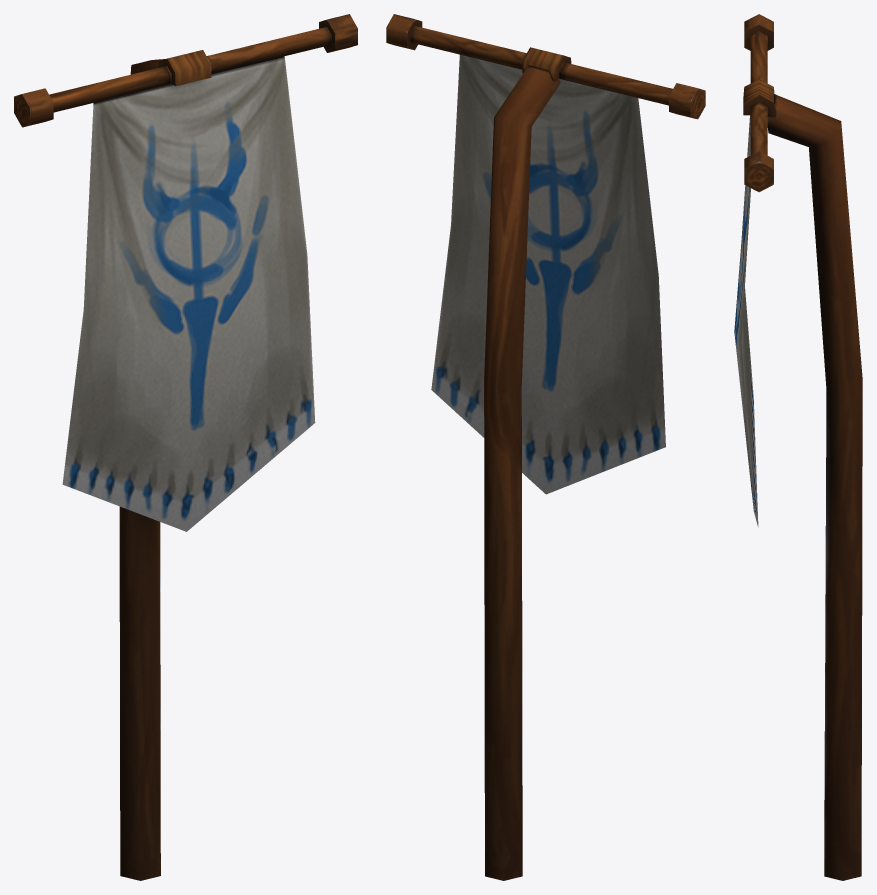
File: prop_Flag.FBX
3 renders of one model, left to right at view 1: azimuth 30°, elevation 25°; view 2: azimuth 150°, elevation 25°; view 3: azimuth 270°, elevation 25°, orthographic. The views are drawn at different scales.
Parts seen in each view (by area): view 1: env_prop_Banner001; view 2: env_prop_Banner001; view 3: env_prop_Banner001.
Boxes of the visible parts, left/top/right/bottom form: env_prop_Banner001: left=14, top=14, right=357, bottom=880; env_prop_Banner001: left=386, top=14, right=705, bottom=880; env_prop_Banner001: left=734, top=14, right=862, bottom=880.
Size of the model in its own units: 16.15 by 40.05 by 5.94.
